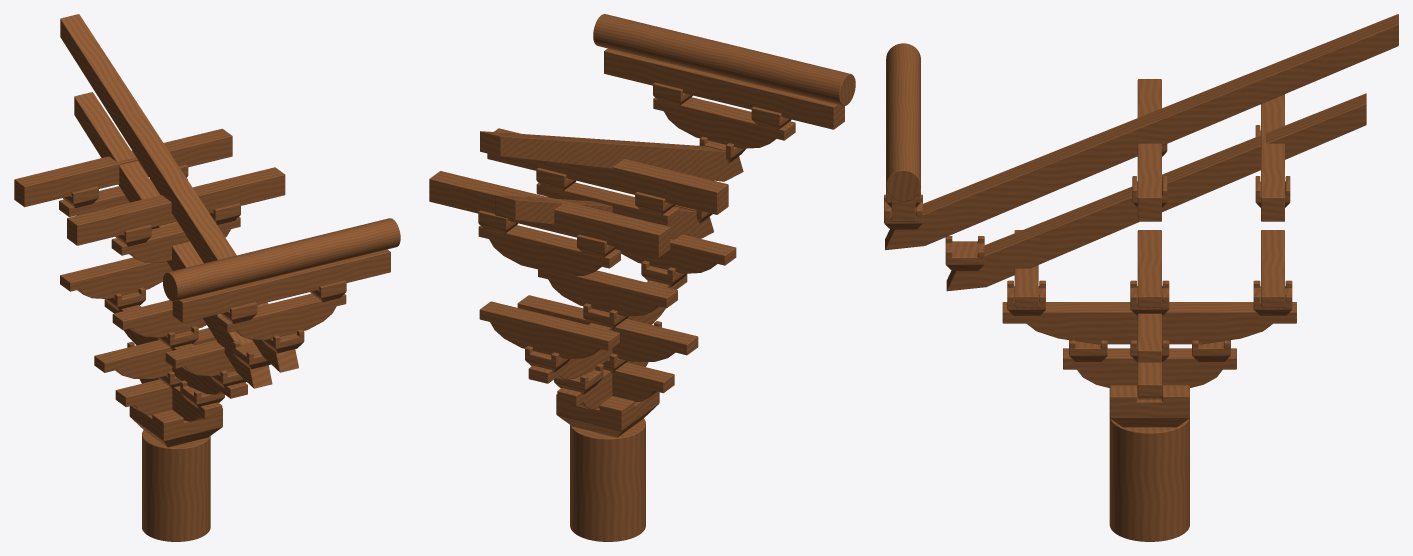
3 renders of one model, left to right at view 1: azimuth 30°, elevation 25°; view 2: azimuth 150°, elevation 25°; view 3: azimuth 270°, elevation 25°, orthographic. The views are drawn at different scales.
Visible parts, largest first — view 1: g4_ang_18, g4_beam_32, g4_column_01, g4_timber_27, g4_ang_13, g4_timber_23, g4_timber_31, g4_gong_20, g4_gong_16, g4_gong_09, g4_dou_02, g4_gong_15 (+16 smaller); view 2: g4_beam_32, g4_column_01, g4_ang_18, g4_timber_31, g4_timber_23, g4_timber_27, g4_gong_16, g4_gong_15, g4_gong_28, g4_gong_20, g4_gong_09, g4_ang_13 (+16 smaller); view 3: g4_ang_18, g4_ang_13, g4_column_01, g4_gong_08, g4_beam_32, g4_gong_03, g4_dou_02, g4_timber_27, g4_timber_31, g4_gong_15, g4_gong_16, g4_gong_09 (+9 smaller).
Boxes of the visible parts, left/top/right/bottom form: g4_ang_18: left=60, top=14, right=298, bottom=372; g4_beam_32: left=163, top=218, right=400, bottom=301; g4_column_01: left=142, top=430, right=210, bottom=541; g4_timber_27: left=67, top=167, right=285, bottom=245; g4_ang_13: left=74, top=92, right=272, bottom=388; g4_timber_23: left=172, top=249, right=390, bottom=322; g4_timber_31: left=14, top=128, right=232, bottom=207; g4_gong_20: left=217, top=293, right=346, bottom=340; g4_gong_16: left=60, top=257, right=172, bottom=298; g4_gong_09: left=94, top=328, right=215, bottom=378; g4_dou_02: left=129, top=406, right=222, bottom=447; g4_gong_15: left=112, top=300, right=206, bottom=337; g4_beam_32: left=593, top=14, right=855, bottom=105; g4_column_01: left=570, top=418, right=645, bottom=541; g4_ang_18: left=480, top=131, right=743, bottom=181; g4_timber_31: left=429, top=171, right=670, bottom=257; g4_timber_23: left=604, top=48, right=844, bottom=129; g4_timber_27: left=487, top=128, right=728, bottom=214; g4_gong_16: left=479, top=301, right=619, bottom=358; g4_gong_15: left=538, top=269, right=677, bottom=316; g4_gong_28: left=478, top=225, right=620, bottom=276; g4_gong_20: left=653, top=97, right=795, bottom=148; g4_gong_09: left=517, top=295, right=698, bottom=361; g4_ang_13: left=495, top=195, right=713, bottom=239; g4_ang_18: left=885, top=14, right=1398, bottom=250; g4_ang_13: left=946, top=93, right=1366, bottom=291; g4_column_01: left=1109, top=418, right=1189, bottom=541; g4_gong_08: left=1002, top=302, right=1296, bottom=344; g4_beam_32: left=886, top=43, right=920, bottom=201; g4_gong_03: left=1063, top=348, right=1236, bottom=390; g4_dou_02: left=1109, top=385, right=1189, bottom=427; g4_timber_27: left=1137, top=79, right=1161, bottom=221; g4_timber_31: left=1261, top=94, right=1284, bottom=221; g4_gong_15: left=1137, top=230, right=1161, bottom=308; g4_gong_16: left=1261, top=230, right=1284, bottom=308; g4_gong_09: left=1137, top=313, right=1161, bottom=362.
Bounding box in the file's own units: 1.7 × 3.15 × 2.9.
1 material, 1 textured.
